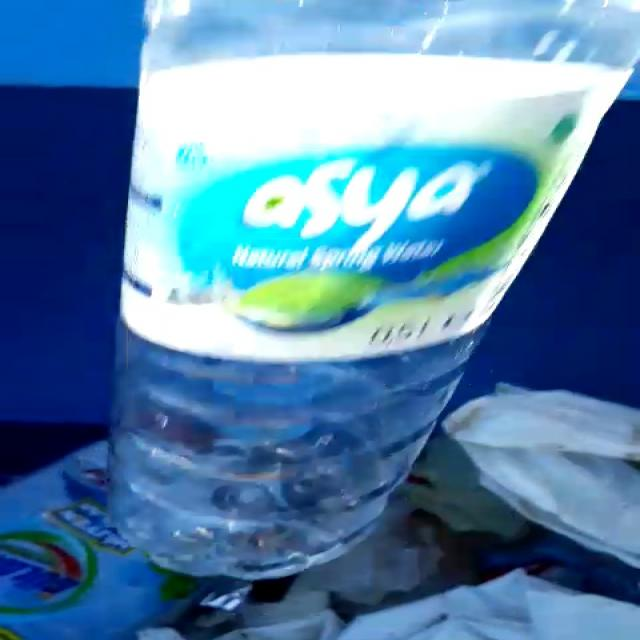plastic: (109, 0, 640, 581)
